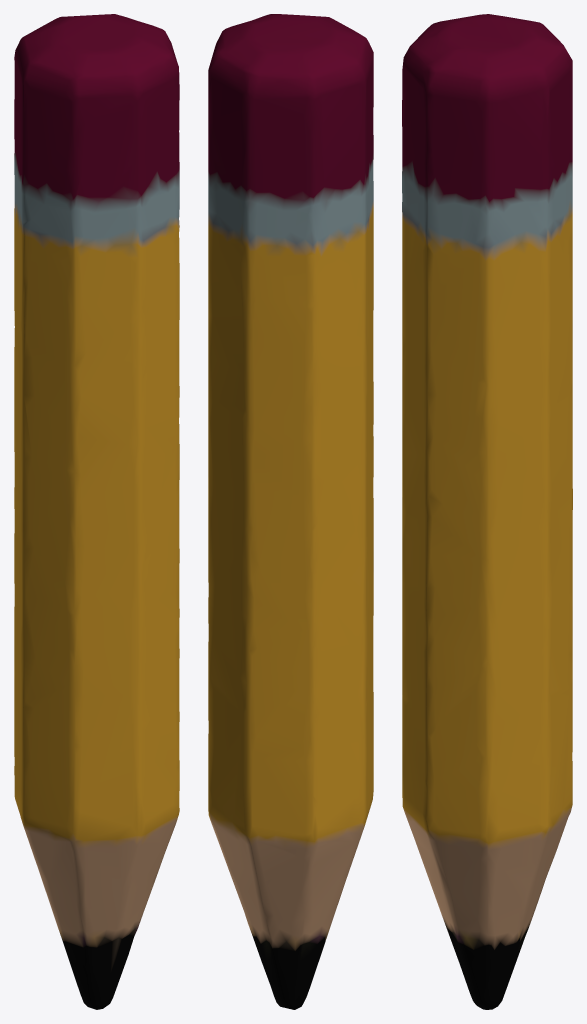
The model's file is gen3d-pencil-lod0.glb.
The picture shows the model from 3 angles, left to right: view 1: azimuth 30°, elevation 25°; view 2: azimuth 150°, elevation 25°; view 3: azimuth 270°, elevation 25°; orthographic projection.
Parts seen in each view (by area): view 1: part_0; view 2: part_0; view 3: part_0.
Part boxes in pixels (x1,y1,x2,y2): part_0: (14,14,179,1009); part_0: (208,14,373,1009); part_0: (402,14,572,1009).
Size of the model in its own units: 0.159 by 0.9997 by 0.1593.
